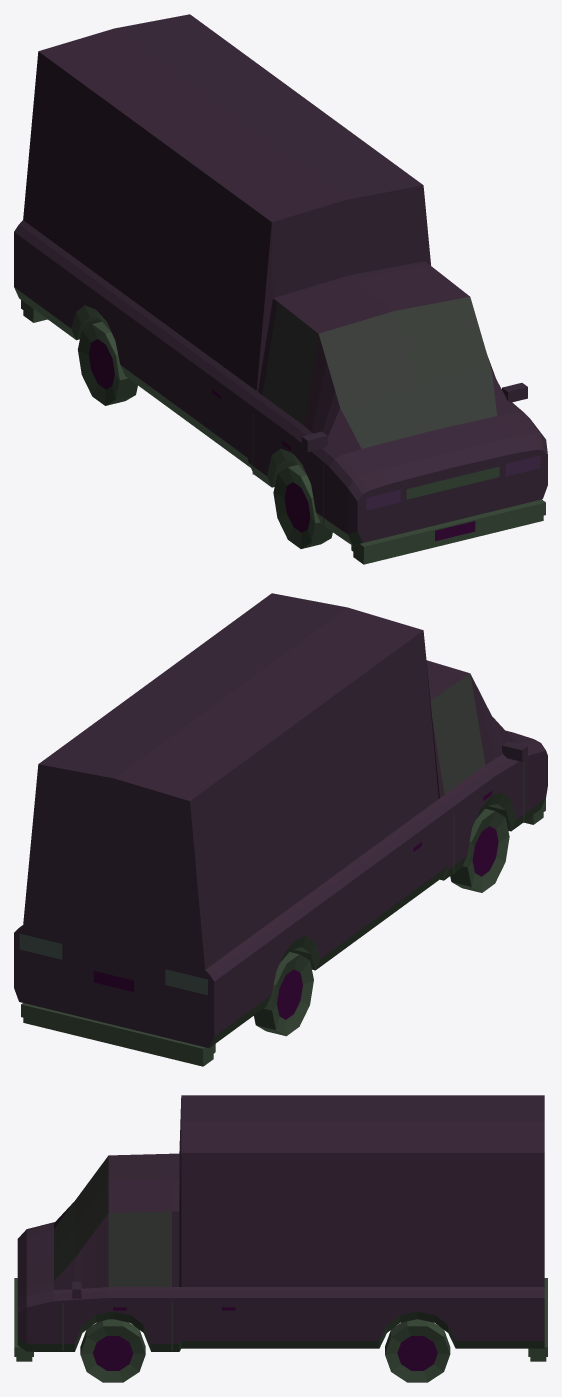
File: box_truck.glb
The picture shows the model from 3 angles, top to bottom: view 1: azimuth 30°, elevation 25°; view 2: azimuth 150°, elevation 25°; view 3: azimuth 270°, elevation 25°; orthographic projection. The views are drawn at different scales.
Visible parts, largest first — view 1: box_truck; view 2: box_truck; view 3: box_truck.
Boxes of the visible parts, x1=… form: box_truck: x1=14, y1=14, x2=547, y2=564; box_truck: x1=14, y1=593, x2=547, y2=1066; box_truck: x1=14, y1=1095, x2=547, y2=1382.
Bounding box in the file's own units: 2.18 × 2.73 × 5.88.
